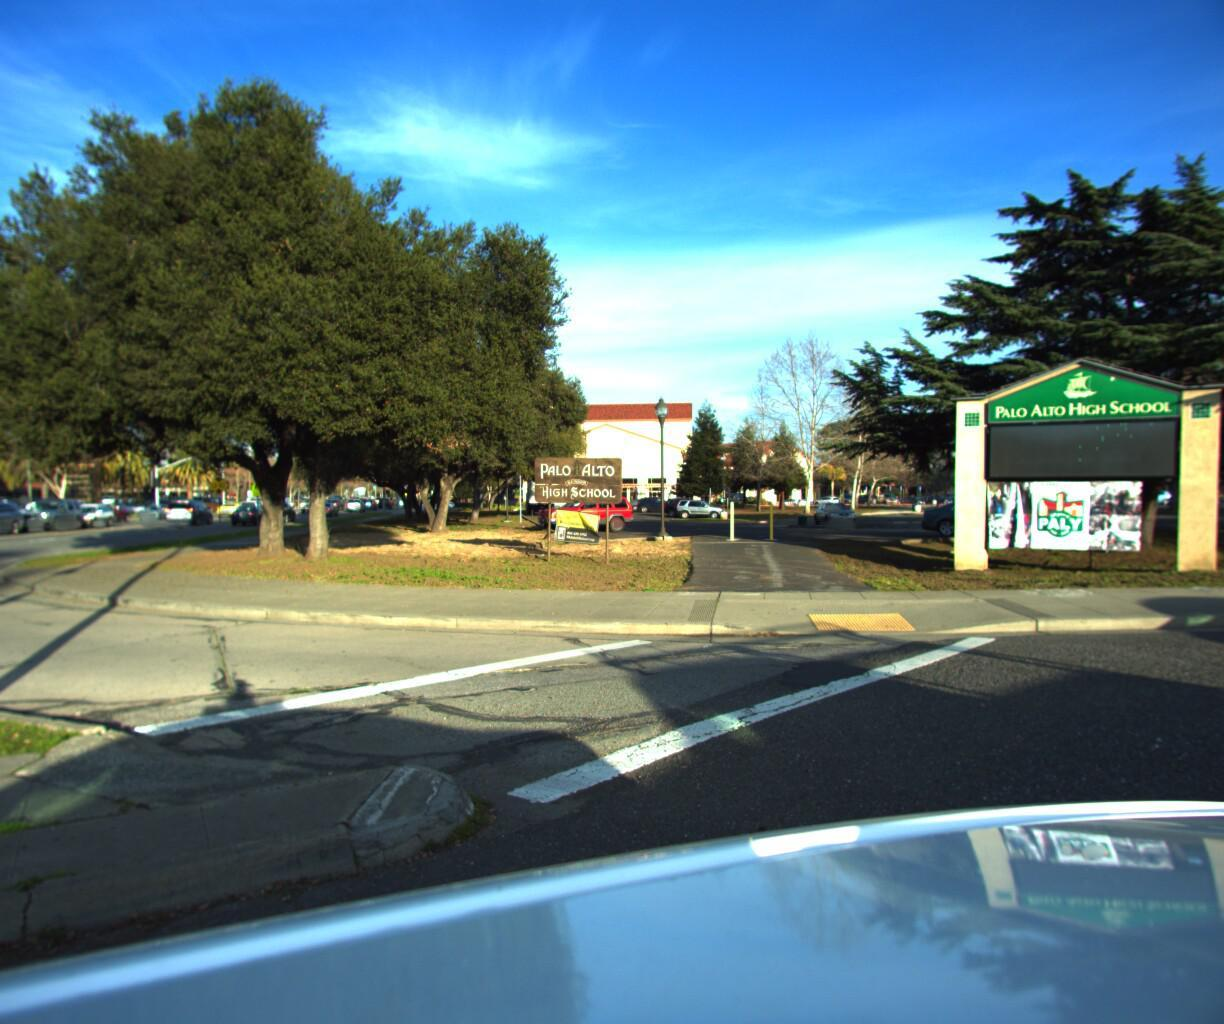car: (10, 493, 97, 536), (125, 495, 191, 525), (61, 498, 121, 528), (165, 495, 220, 526), (229, 497, 278, 527), (215, 497, 252, 520)
